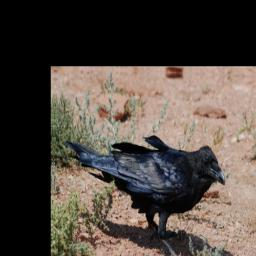Crow: (60, 129, 228, 256)
